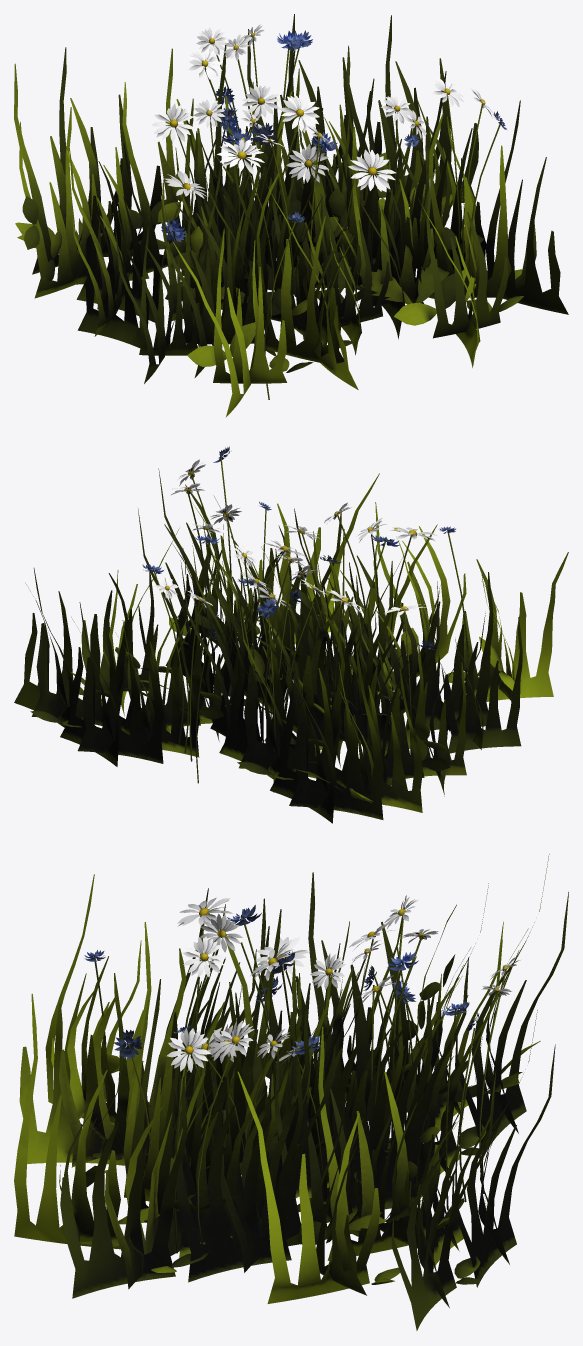
The model's file is FLOWERS_FULL.fbx.
3 views of the same model, one above another, from view 1: azimuth 30°, elevation 25°; view 2: azimuth 150°, elevation 25°; view 3: azimuth 270°, elevation 25° (orthographic). The views are drawn at different scales.
Parts seen in each view (by area): view 1: flowers_full1; view 2: flowers_full1; view 3: flowers_full1.
Boxes of the visible parts, x1,y1,x2,y2 form: flowers_full1: (14,14,568,416); flowers_full1: (14,446,568,823); flowers_full1: (14,854,568,1330).
Bounding box in the file's own units: 17.58 × 9.23 × 15.56.
